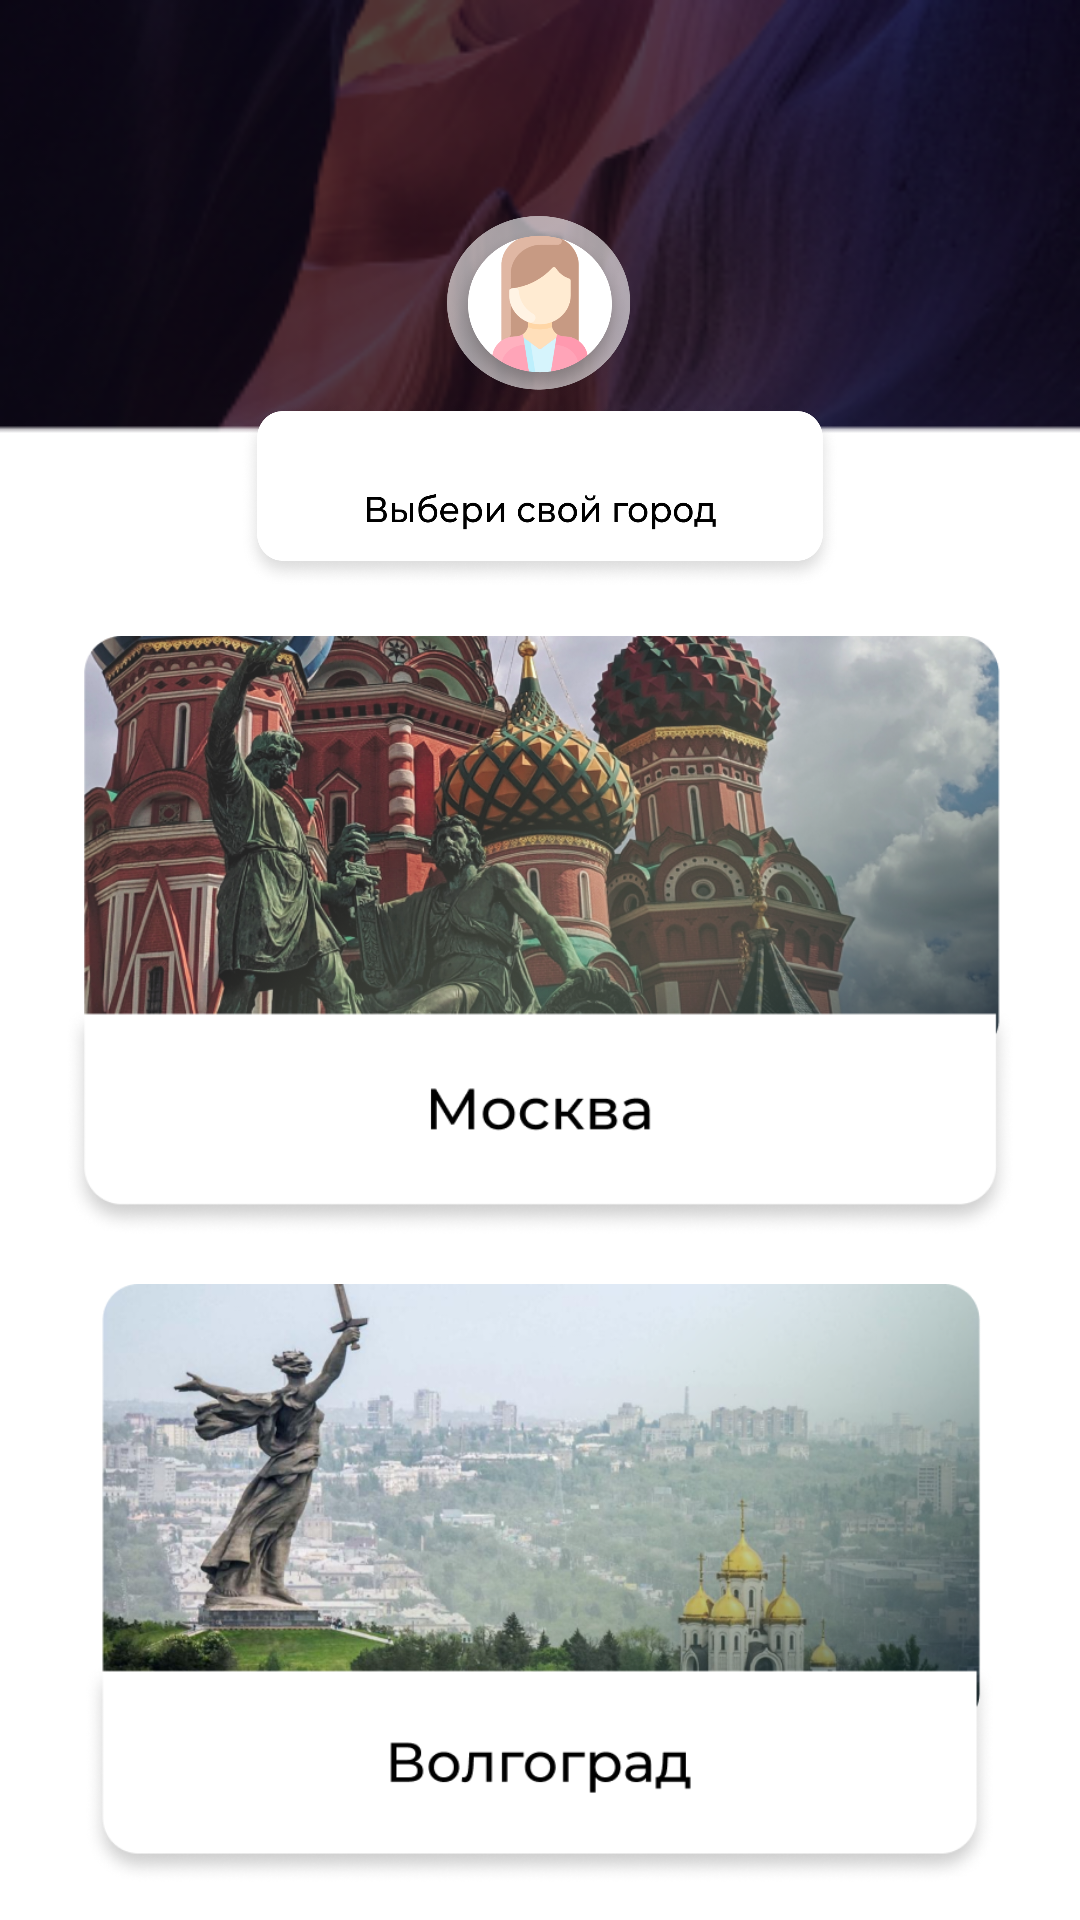

Named icons in this screenshot (1080×1920) and their centers, [x,y]:
profile: [540,309]
